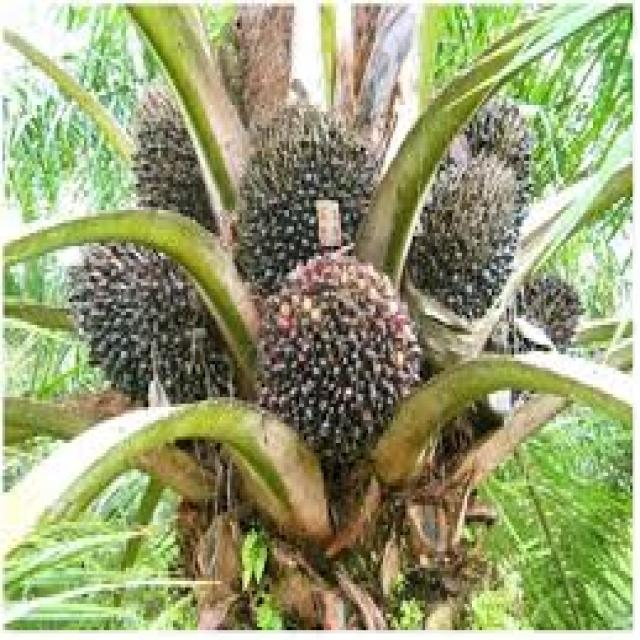FFB: (261, 262, 419, 465), (228, 105, 378, 310), (67, 242, 251, 404), (406, 148, 527, 320), (139, 77, 220, 242), (486, 275, 583, 353), (463, 100, 530, 206)
